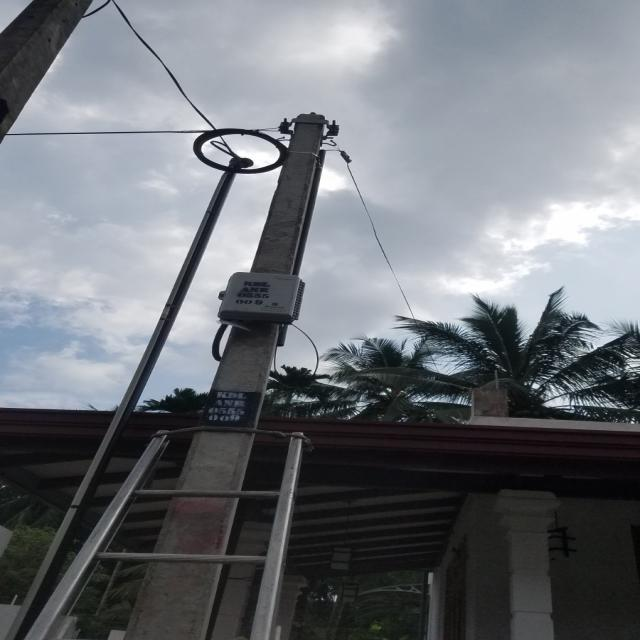light_pole: (106, 109, 338, 640)
